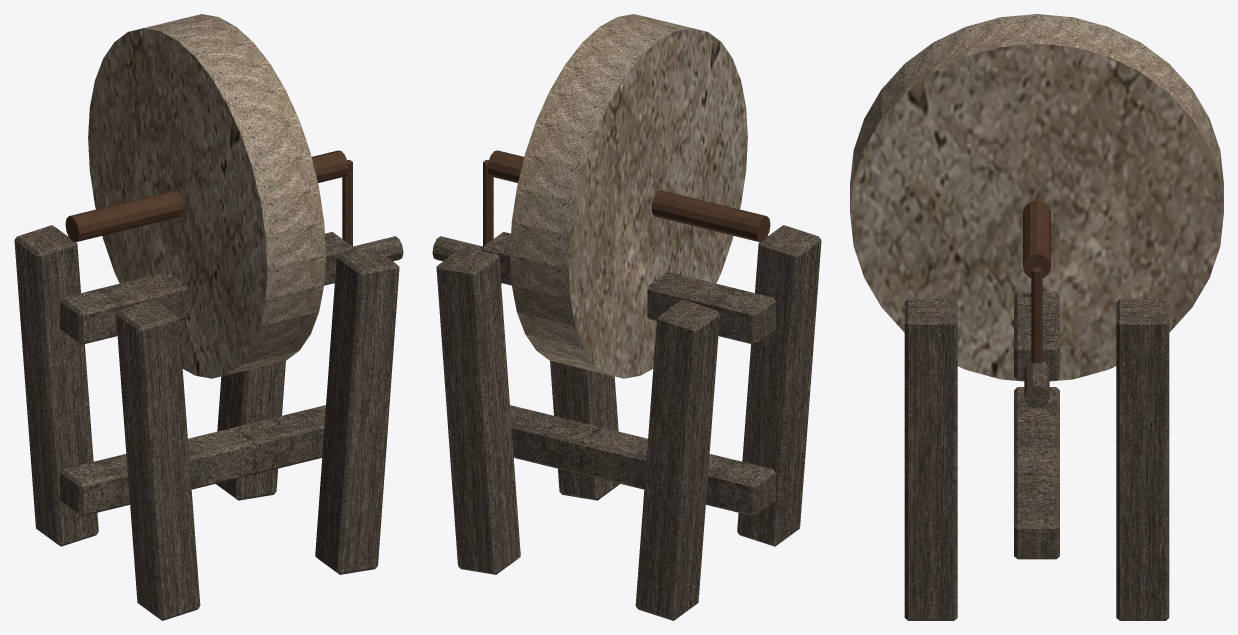
File: whetstone-wheel.glb
3 renders of one model, left to right at view 1: azimuth 30°, elevation 25°; view 2: azimuth 150°, elevation 25°; view 3: azimuth 270°, elevation 25°, orthographic. The views are drawn at different scales.
Visible parts, largest first — view 1: whetstone-wheel; view 2: whetstone-wheel; view 3: whetstone-wheel.
Boxes of the visible parts, x1,y1,x2,y2 form: whetstone-wheel: (14, 14, 403, 620); whetstone-wheel: (432, 14, 821, 620); whetstone-wheel: (850, 14, 1223, 620).
Size of the model in its own units: 0.56 by 0.8416 by 0.53.
Materials: 1 (1 with a texture image).
